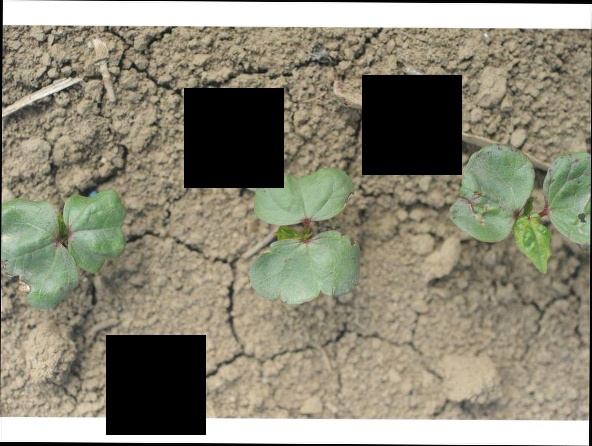cotton: (451, 145, 591, 275), (248, 166, 363, 307), (1, 189, 129, 312)
